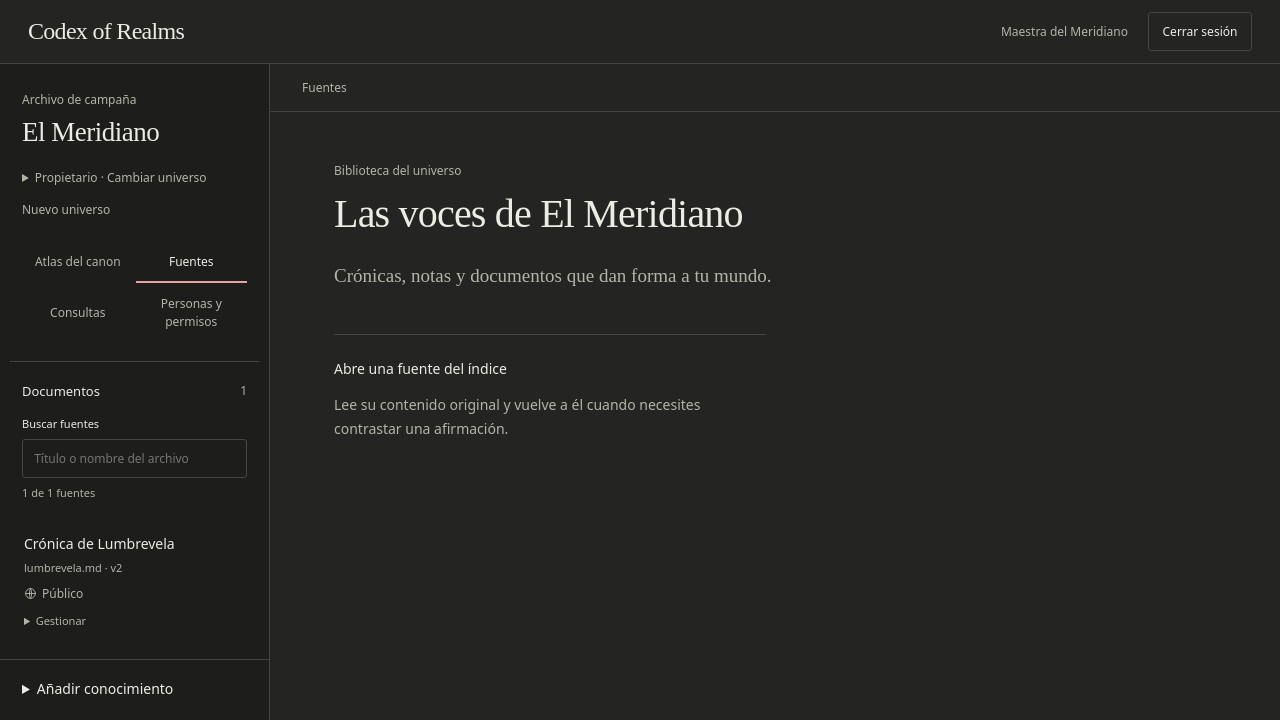
it: App › muestra el runtime incompleto y una respuesta segura sin modelo
Check: the text "Crónica de Lumbrevela" is shown, box top-left (24, 534), bottom-right (175, 553)
Click the link "Consultas": (78, 312) top-left (50, 304), bottom-right (105, 321)
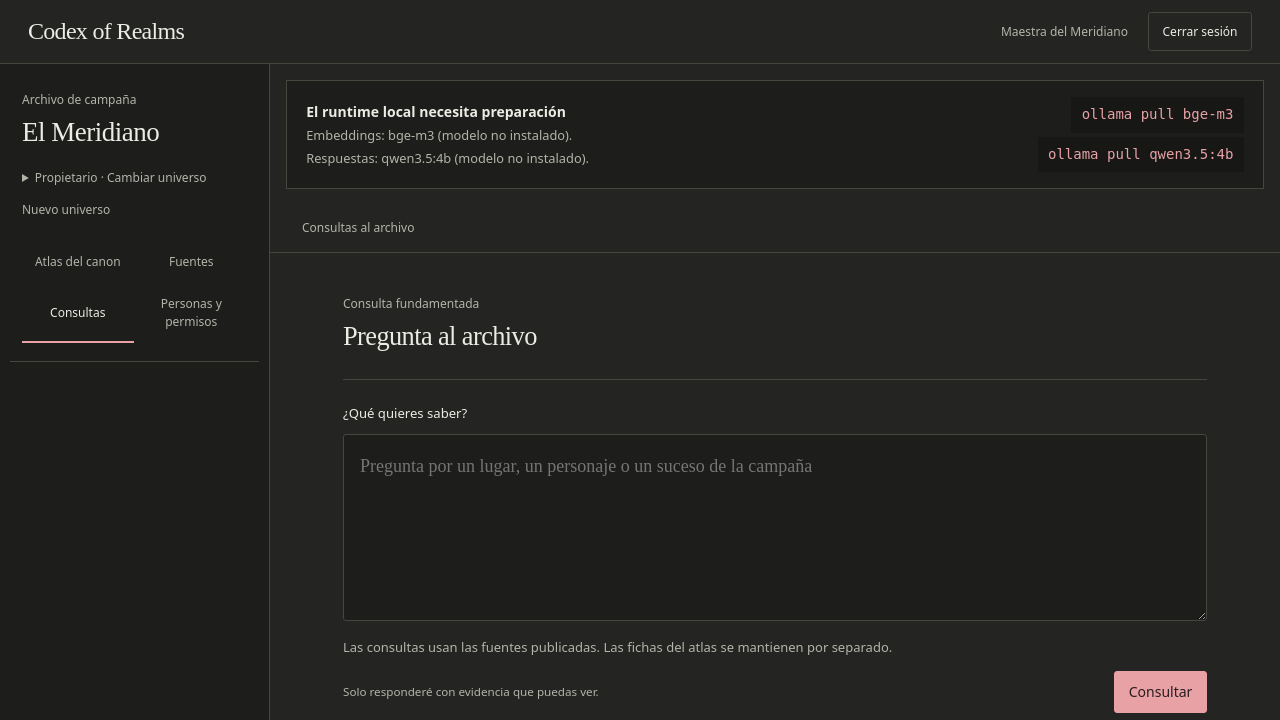
Check: the text "El runtime local necesita preparación" is shown, box top-left (306, 101), bottom-right (589, 122)
Check: the text "ollama pull bge-m3" is shown, box top-left (1071, 97), bottom-right (1244, 133)
Check: the text "ollama pull qwen3.5:4b" is shown, box top-left (1038, 137), bottom-right (1244, 172)
Replace the text in the text box labelled "¿Qué quieres saber?" with "¿Qué ocurrió?": (775, 527) top-left (343, 434), bottom-right (1207, 621)
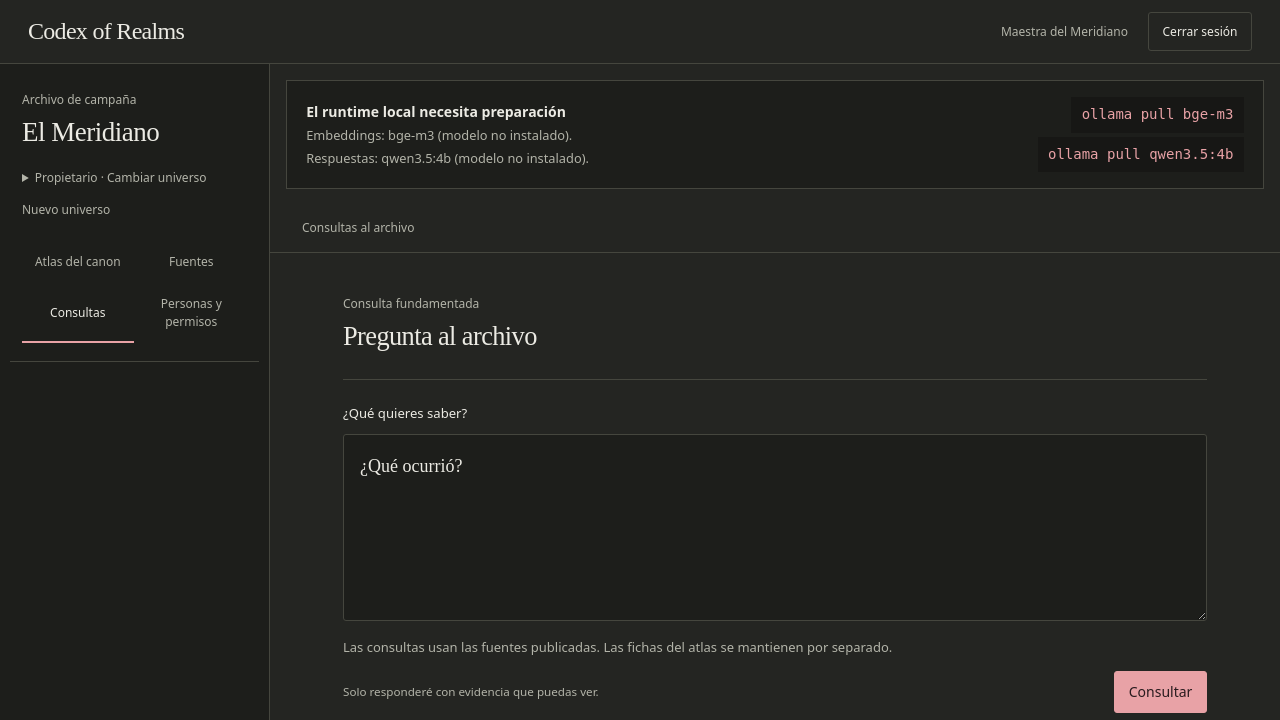
Click the button "Consultar": (1161, 692) top-left (1114, 671), bottom-right (1207, 713)
(page scrolled)
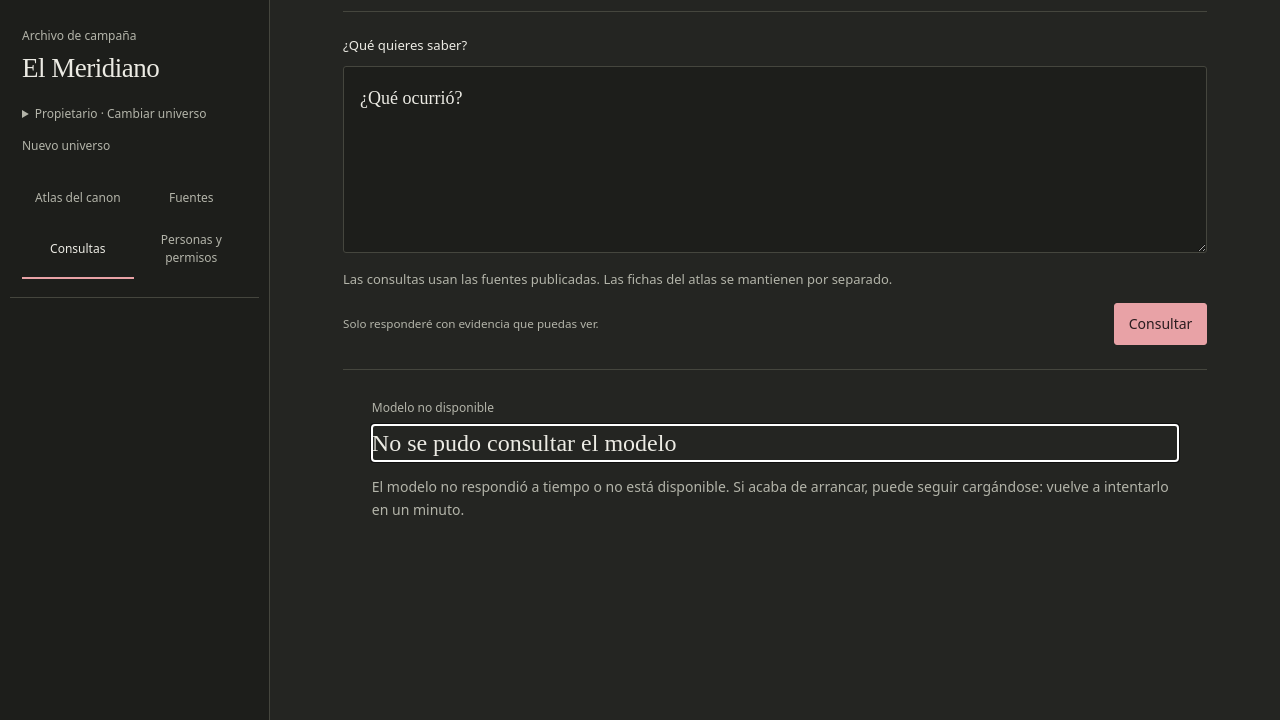
Check: the heading "No se pudo consultar el modelo" is shown, box top-left (372, 430), bottom-right (676, 456)
Check: the text "Modelo no disponible" is shown, box top-left (372, 399), bottom-right (494, 416)
